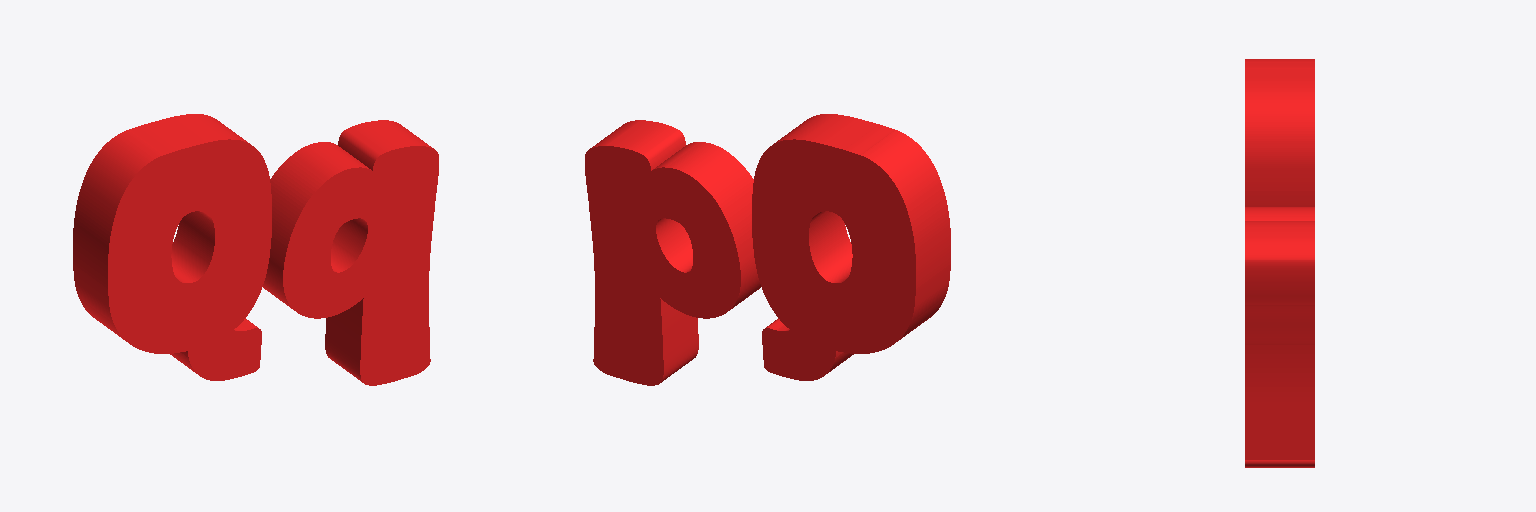
File: Letter_q.obj
3 views of the same model, side by side, from view 1: azimuth 30°, elevation 25°; view 2: azimuth 150°, elevation 25°; view 3: azimuth 270°, elevation 25° (orthographic).
Visible parts, largest first — view 1: Text; view 2: Text; view 3: Text.
Part boxes in pixels (bbox=[...]): Text: bbox=[73, 114, 438, 385]; Text: bbox=[585, 114, 950, 385]; Text: bbox=[1245, 59, 1314, 467].
Size of the model in its own units: 1.09 by 0.8971 by 0.2.